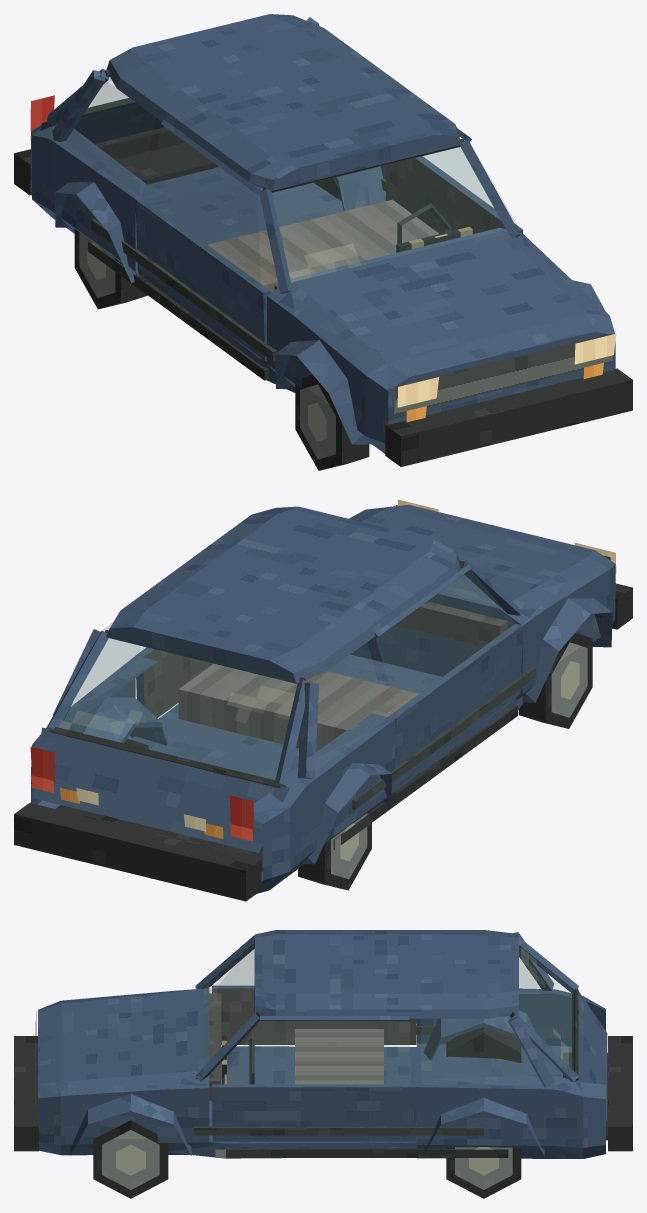
Rendered from pinelatch-1993-mid.glb.
3 renders of one model, top to bottom at view 1: azimuth 30°, elevation 25°; view 2: azimuth 150°, elevation 25°; view 3: azimuth 270°, elevation 25°, orthographic. The views are drawn at different scales.
Parts seen in each view (by area): view 1: body, Hood opening panel, Hinged side glass.001, Shaped hinged outer door.001, Padded inside door panel, Opening hatch panel, Distance tyre.001, Distance hubcap.002, Hinged side glass, Distance tyre.003, Door edge.006, Distance hubcap.006 (+4 smaller); view 2: body, Rear safety glass, Opening hatch panel, Hinged side glass.001, Hood opening panel, Shaped hinged outer door.001, Padded inside door panel, Distance tyre.001, Window bottom seal.001, Distance hubcap.002, Distance tyre.003, Fixed outer pillar.002 (+7 smaller); view 3: body, Hood opening panel, Hinged side glass, Shaped hinged outer door, Padded inside door panel.001, Rear safety glass, Opening hatch panel, Distance hubcap, Distance tyre.003, Distance tyre, Distance hubcap.004, Distance tyre.002 (+8 smaller).
Part boxes in pixels (x1,y1,x2,y2): body: (14,14,632,466); Hood opening panel: (290,228,594,376); Hinged side glass.001: (141,126,260,289); Shaped hinged outer door.001: (135,199,265,360); Padded inside door panel: (385,158,505,233); Opening hatch panel: (40,103,164,143); Distance tyre.001: (295,374,369,470); Distance hubcap.002: (300,384,335,459); Hinged side glass: (423,137,516,225); Distance tyre.003: (74,229,147,309); Door edge.006: (135,197,270,292); Distance hubcap.006: (79,232,115,298); body: (14,505,632,901); Rear safety glass: (59,638,296,779); Opening hatch panel: (33,727,289,852); Hinged side glass.001: (376,570,517,714); Hood opening panel: (361,504,594,608); Shaped hinged outer door.001: (395,626,522,785); Padded inside door panel: (143,649,212,717); Distance tyre.001: (518,633,592,728); Window bottom seal.001: (49,726,280,788); Distance hubcap.002: (551,642,587,717); Distance tyre.003: (298,810,371,890); Fixed outer pillar.002: (275,679,309,786); body: (14,930,632,1158); Hood opening panel: (38,988,209,1083); Hinged side glass: (218,1020,409,1085); Shaped hinged outer door: (212,1087,416,1141); Padded inside door panel.001: (212,988,416,1044); Rear safety glass: (519,946,572,1068); Opening hatch panel: (575,991,607,1120); Distance hubcap: (102,1130,159,1189); Distance tyre.003: (446,1027,521,1062); Distance tyre: (93,1120,168,1198); Distance hubcap.004: (455,1147,512,1189); Distance tyre.002: (446,1147,521,1198).
Bounding box in the file's own units: 1.86 × 1.4 × 4.24.
Materials: 6 (6 with a texture image).
